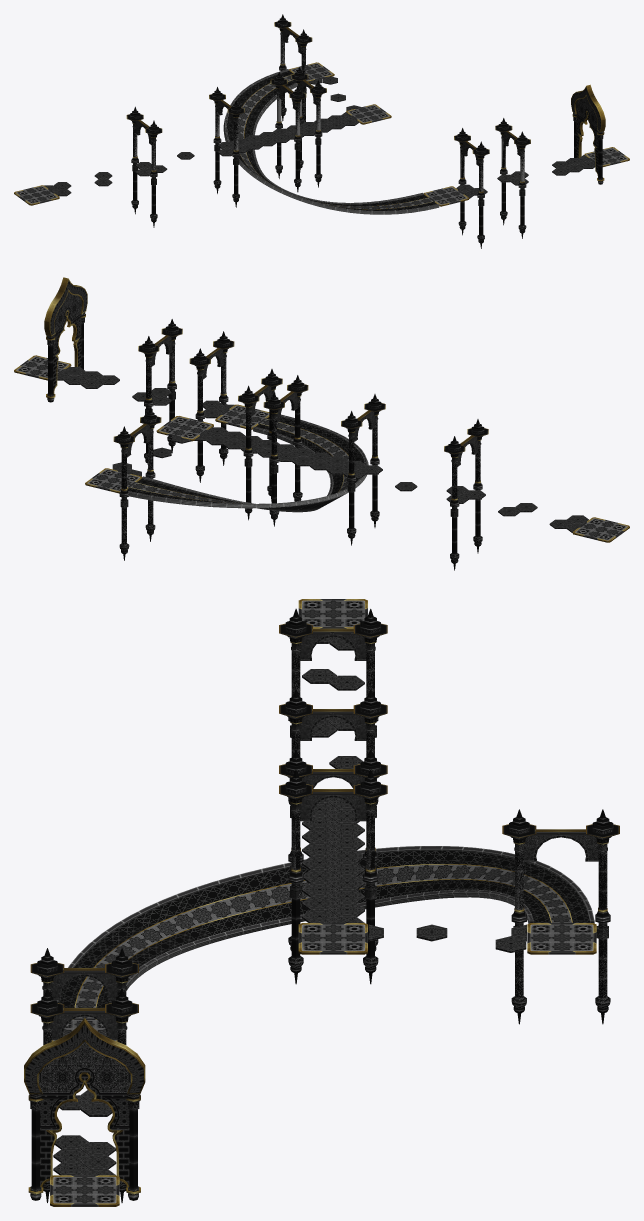
File: NPSpace2.gltf
3 views of the same model, one above another, from view 1: azimuth 30°, elevation 25°; view 2: azimuth 150°, elevation 25°; view 3: azimuth 270°, elevation 25° (orthographic). The views are drawn at different scales.
Visible parts, largest first — view 1: stg070_k21_Mesh_0000, stg070_k21_Mesh_0014, stg070_k21_Mesh_0023, stg070_k21_Mesh_0030, stg070_k21_Mesh_0019, stg070_k21_Mesh_0008, stg070_k21_Mesh_0015, stg070_k21_Mesh_0002, stg070_k21_Mesh_0011, stg070_o21_Mesh_0005, stg070_k21_Mesh_0020, stg070_k21_Mesh_0042 (+8 smaller); view 2: stg070_k21_Mesh_0000, stg070_k21_Mesh_0014, stg070_k21_Mesh_0030, stg070_k21_Mesh_0023, stg070_k21_Mesh_0019, stg070_k21_Mesh_0002, stg070_k21_Mesh_0015, stg070_k21_Mesh_0008, stg070_o21_Mesh_0005, stg070_k21_Mesh_0016, stg070_k21_Mesh_0042, stg070_k21_Mesh_0039 (+11 smaller); view 3: stg070_k21_Mesh_0023, stg070_k21_Mesh_0000, stg070_k21_Mesh_0008, stg070_k21_Mesh_0030, stg070_k21_Mesh_0014, stg070_k21_Mesh_0039, stg070_k21_Mesh_0019, stg070_k21_Mesh_0002, stg070_k21_Mesh_0018, stg070_k21_Mesh_0009, stg070_k21_Mesh_0016, stg070_o21_Mesh_0005 (+20 smaller).
Boxes of the visible parts, bbox=[...] form: stg070_k21_Mesh_0000: bbox=[44, 112, 358, 196]; stg070_k21_Mesh_0014: bbox=[131, 88, 322, 215]; stg070_k21_Mesh_0023: bbox=[227, 71, 436, 210]; stg070_k21_Mesh_0030: bbox=[223, 69, 439, 214]; stg070_k21_Mesh_0019: bbox=[130, 73, 323, 219]; stg070_k21_Mesh_0008: bbox=[238, 75, 432, 209]; stg070_k21_Mesh_0015: bbox=[458, 139, 526, 236]; stg070_k21_Mesh_0002: bbox=[456, 155, 595, 198]; stg070_k21_Mesh_0011: bbox=[132, 88, 321, 219]; stg070_o21_Mesh_0005: bbox=[571, 84, 605, 181]; stg070_k21_Mesh_0020: bbox=[457, 124, 527, 240]; stg070_k21_Mesh_0042: bbox=[127, 74, 326, 135]; stg070_k21_Mesh_0000: bbox=[194, 427, 588, 532]; stg070_k21_Mesh_0014: bbox=[243, 395, 482, 554]; stg070_k21_Mesh_0030: bbox=[128, 414, 368, 512]; stg070_k21_Mesh_0023: bbox=[127, 417, 364, 503]; stg070_k21_Mesh_0019: bbox=[242, 376, 484, 560]; stg070_k21_Mesh_0002: bbox=[57, 367, 234, 418]; stg070_k21_Mesh_0015: bbox=[144, 345, 228, 467]; stg070_k21_Mesh_0008: bbox=[130, 419, 348, 503]; stg070_o21_Mesh_0005: bbox=[44, 277, 87, 398]; stg070_k21_Mesh_0016: bbox=[119, 433, 155, 545]; stg070_k21_Mesh_0042: bbox=[238, 378, 487, 454]; stg070_k21_Mesh_0039: bbox=[251, 386, 477, 466]; stg070_k21_Mesh_0023: bbox=[58, 850, 589, 1007]; stg070_k21_Mesh_0000: bbox=[302, 636, 364, 922]; stg070_k21_Mesh_0008: bbox=[75, 864, 571, 1018]; stg070_k21_Mesh_0030: bbox=[54, 846, 594, 1018]; stg070_k21_Mesh_0014: bbox=[288, 651, 378, 958]; stg070_k21_Mesh_0039: bbox=[300, 631, 366, 821]; stg070_k21_Mesh_0019: bbox=[285, 621, 380, 967]; stg070_k21_Mesh_0002: bbox=[53, 1090, 116, 1175]; stg070_k21_Mesh_0018: bbox=[38, 1041, 130, 1092]; stg070_k21_Mesh_0009: bbox=[25, 1024, 143, 1127]; stg070_k21_Mesh_0016: bbox=[511, 851, 610, 998]; stg070_o21_Mesh_0005: bbox=[24, 1018, 145, 1194].
Bounding box in the file's own units: 280 × 73.4 × 134.
16 materials, 15 textured.
